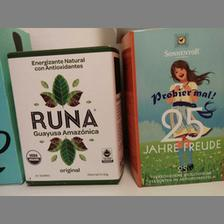Tee: (5, 44, 122, 186), (120, 28, 222, 186)
